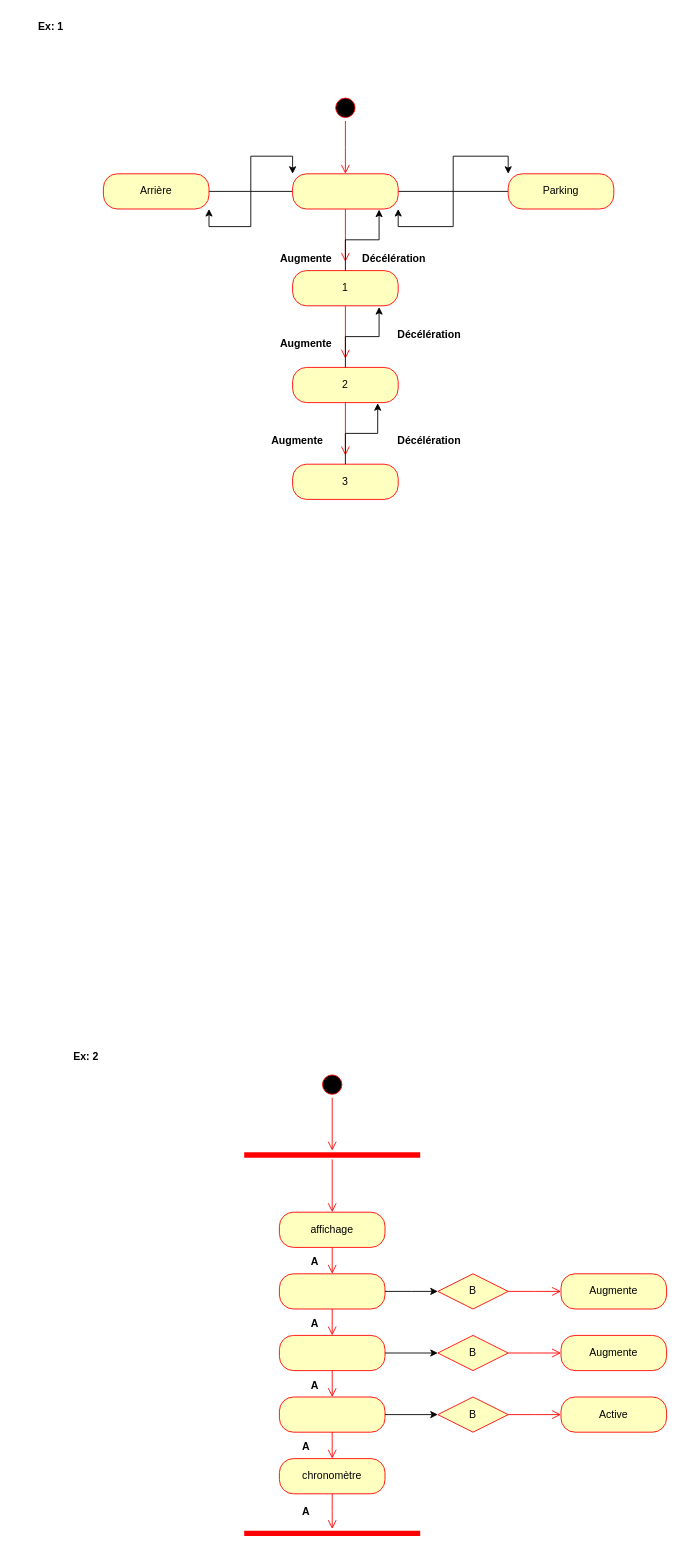
The diagram is 682 pixels wide and 1555 high, and some of its shapes have lost their labels. Each missing label, with the centre of its shape:
"alarme" belongs at point 332,1414.
"Point mort" belongs at point 345,191.
"Réglage heure" belongs at point 332,1353.
"réglage minute" belongs at point 332,1291.
